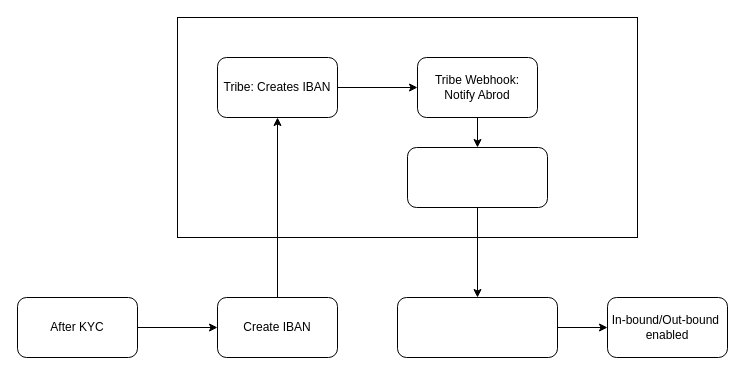
Some shapes in this 745 by 375 pixel diagram are drawn without their labels. The shapes that lost their labels are listed below. From the top down, each one's box as (x1, y1, x2, y2) in pixels, then its label:
(406, 146, 548, 208): Response: [id, status, IBAN]
(396, 296, 558, 358): Get IBAN: by ID: Tribe
